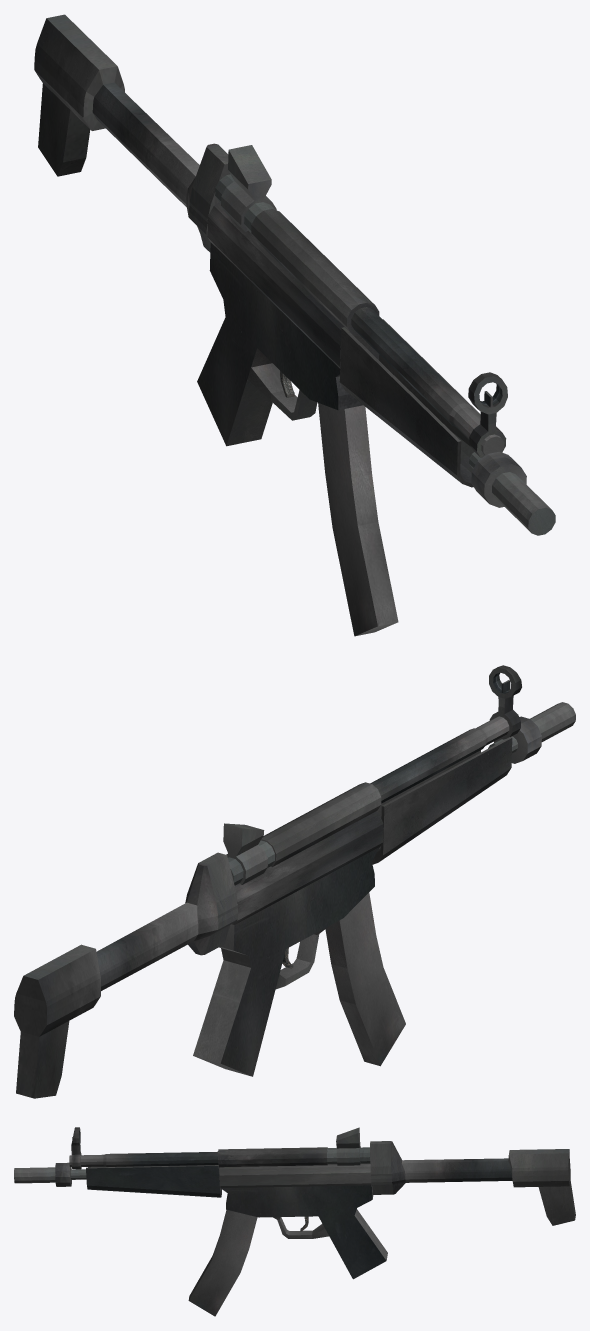
3 renders of one model, top to bottom at view 1: azimuth 30°, elevation 25°; view 2: azimuth 150°, elevation 25°; view 3: azimuth 270°, elevation 25°, orthographic. The views are drawn at different scales.
Parts seen in each view (by area): view 1: MP5; view 2: MP5; view 3: MP5.
Part boxes in pixels (left/top/right/bottom): MP5: left=34, top=14, right=555, bottom=636; MP5: left=14, top=665, right=575, bottom=1098; MP5: left=14, top=1127, right=575, bottom=1316.
Size of the model in its own units: 6.4 by 22.36 by 60.31.
Materials: 2 (2 with a texture image).
